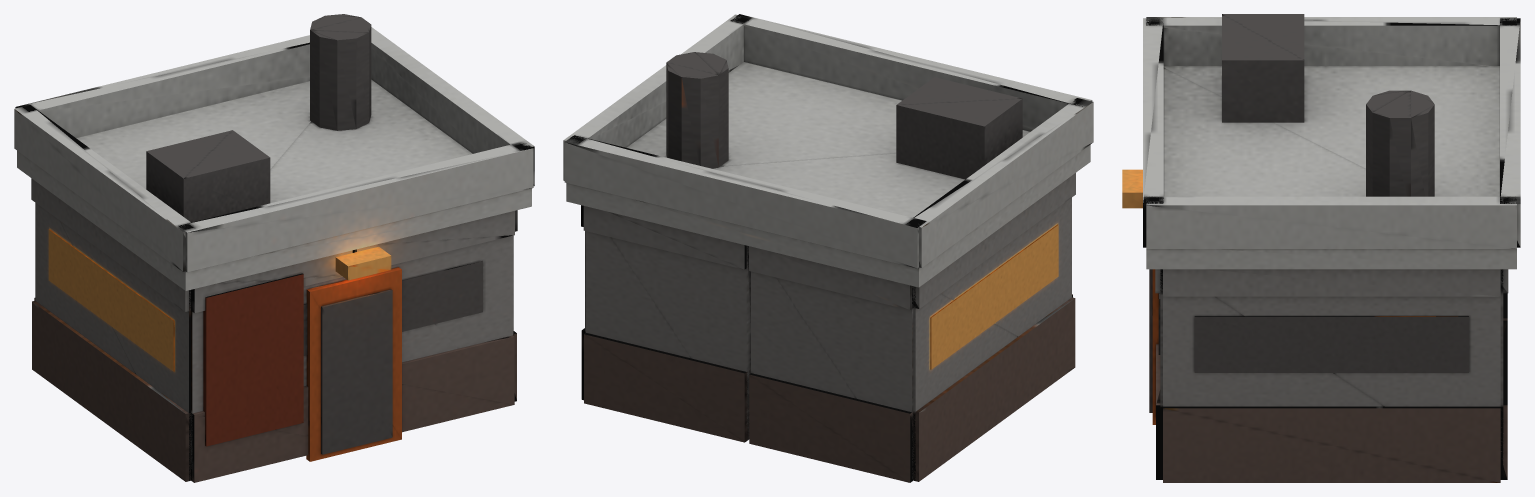
File: B_checkpoint.glb
3 views of the same model, side by side, from view 1: azimuth 30°, elevation 25°; view 2: azimuth 150°, elevation 25°; view 3: azimuth 270°, elevation 25° (orthographic). The views are drawn at different scales.
Parts seen in each view (by area): view 1: Cube; view 2: Cube; view 3: Cube.
Boxes of the visible parts, box(x1,y1,x2,y2) form: Cube: box(14, 14, 534, 482); Cube: box(563, 14, 1093, 482); Cube: box(1122, 14, 1520, 482).
Size of the model in its own units: 6.5 by 5.6 by 5.8.
Materials: 1 (1 with a texture image).
